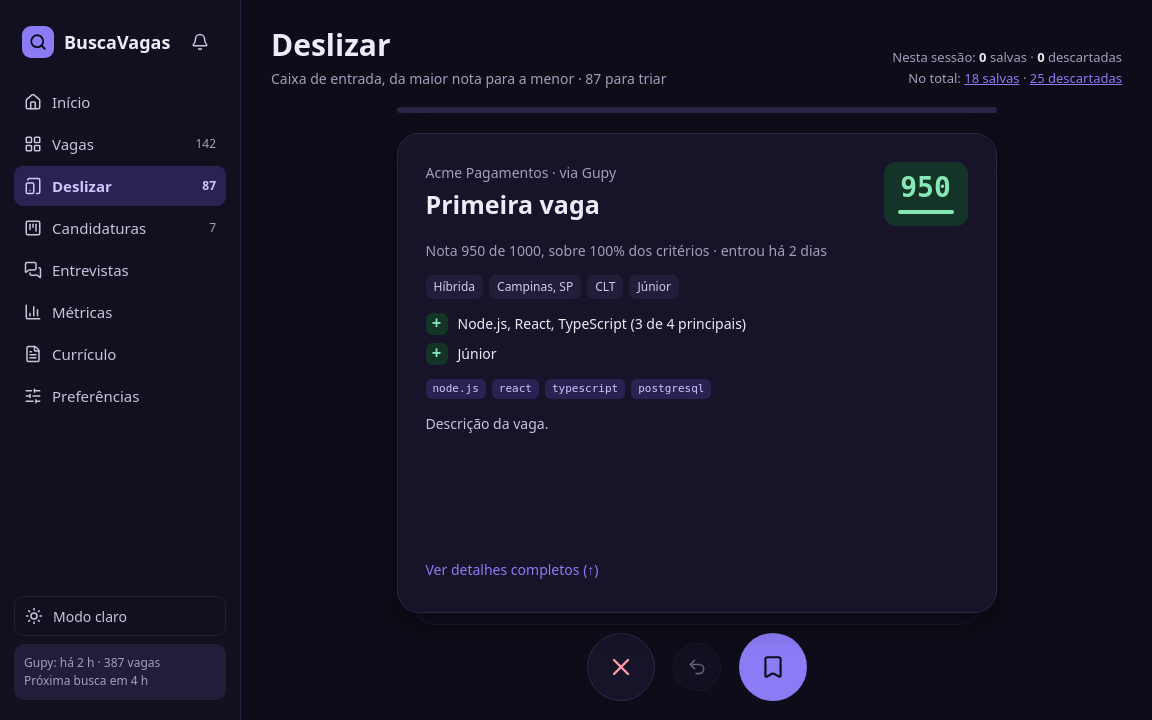
Test: Deslizar › botões fazem o mesmo que as setas
Expected: the element named "Vaga atual: Primeira vaga" is shown, [396,132,996,612]
Click the button named "Salvar (seta para a direita)". click: click(772, 666)
box: [738,632,806,700]
(page scrolled)
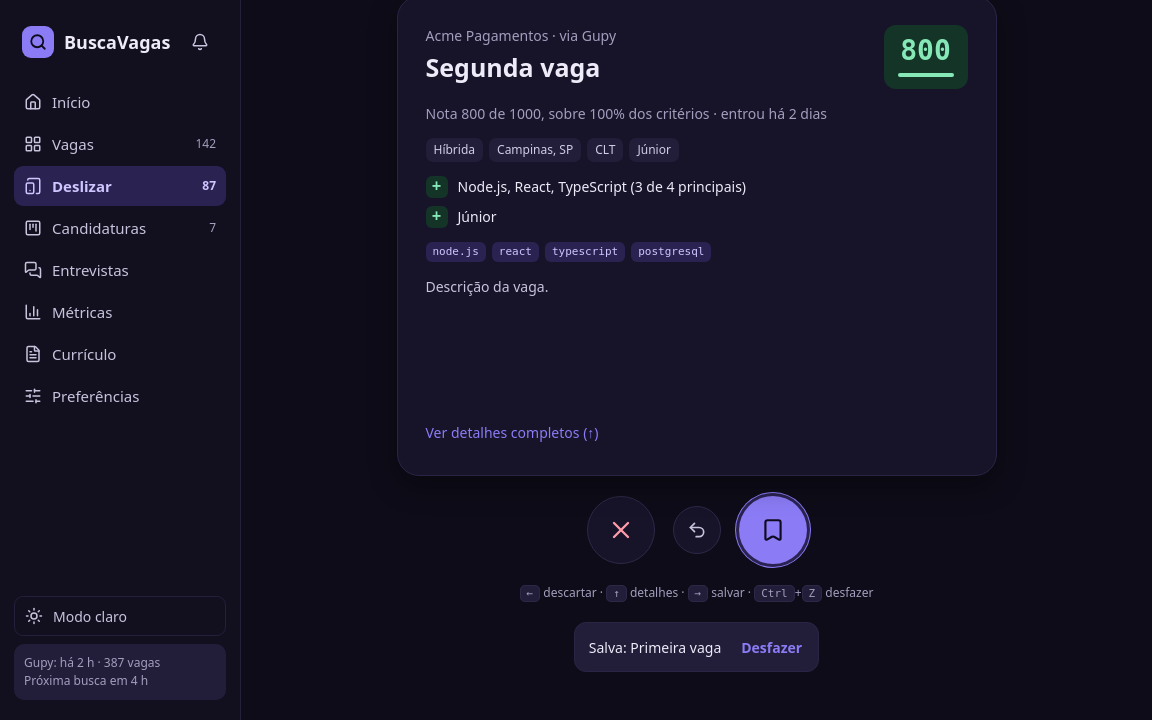
Click the button "Desfazer". click: click(772, 647)
box: [733,631,810,663]
(page scrolled)
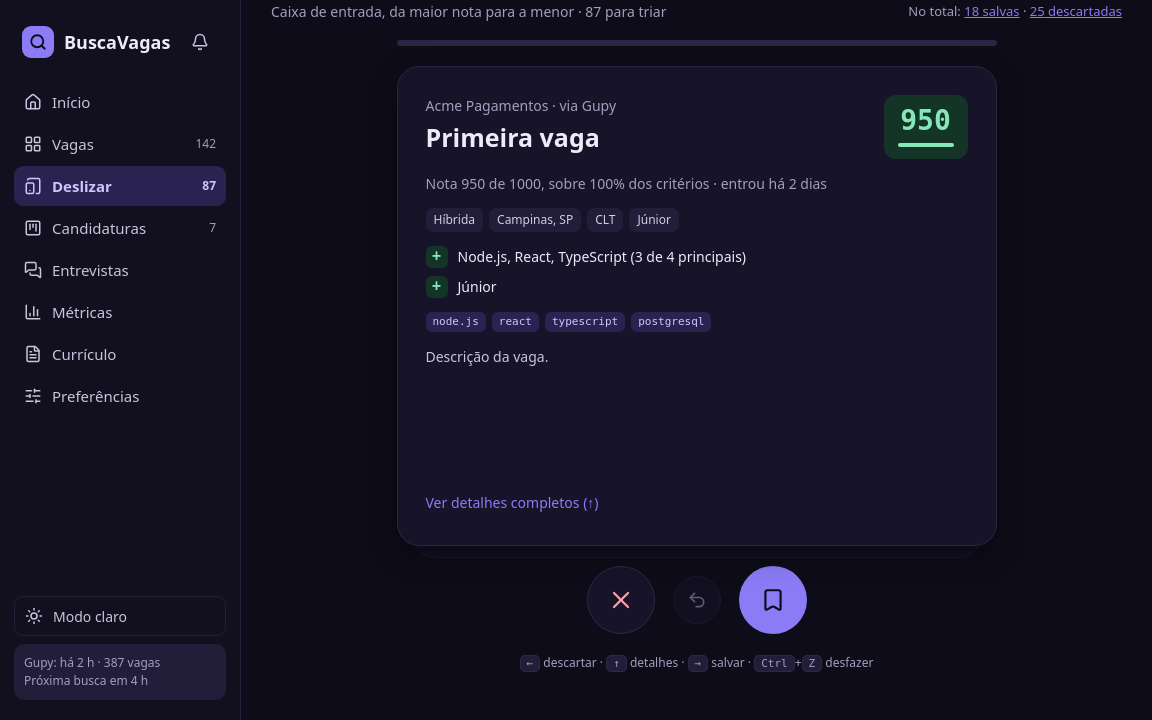
Now the element named "Vaga atual: Primeira vaga" is shown, box [396,66,996,546]
